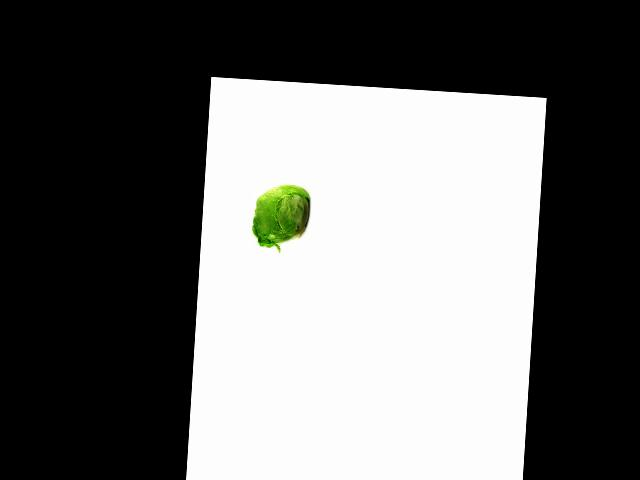lettuce: (248, 180, 313, 247)
